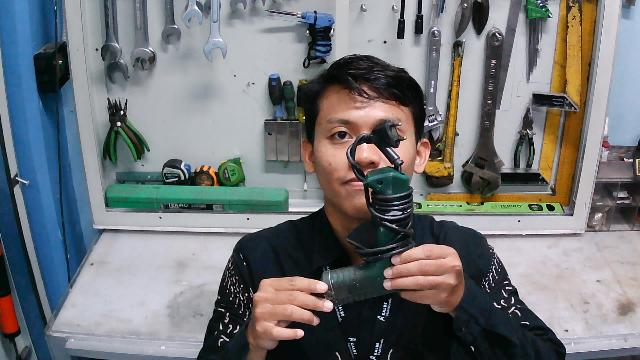gun_lem: (315, 116, 419, 314)
